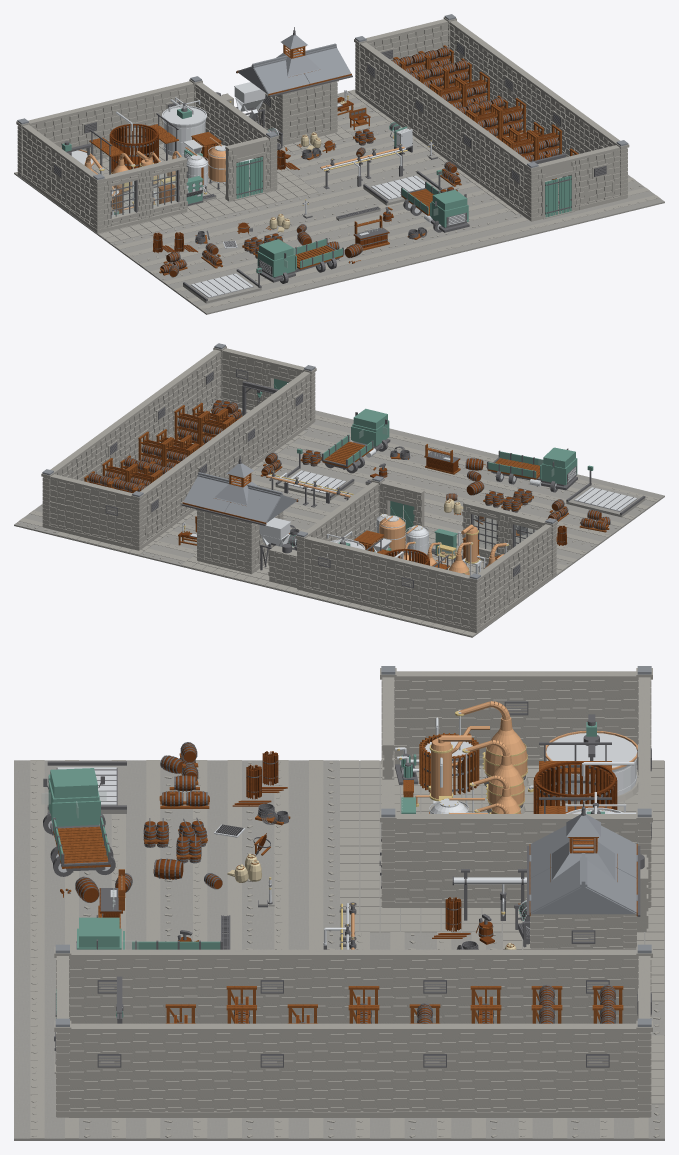
Rendered from DistilleryYard-PNG.glb.
The picture shows the model from 3 angles, top to bottom: view 1: azimuth 30°, elevation 25°; view 2: azimuth 150°, elevation 25°; view 3: azimuth 270°, elevation 25°; orthographic projection. The views are drawn at different scales.
Visible parts, largest first — view 1: 141-warehouse-wall-run/warehouse-wall-run-stone, 288-wall-section/wall-section-stone, 103-stillhouse-window-bay/stillhouse-window-bay-stone, 090-warehouse-wall-run/warehouse-wall-run-stone, 104-warehouse-door-pair/warehouse-door-pair-stone, 102-stillhouse-window-bay/stillhouse-window-bay-stone, 314-delivery-lorry/delivery-lorry-paint, 115-wash-back-wood/wash-back-wood-oak, 292-slate-roof-section/slate-roof-section-slate, 091-wall-section/wall-section-stone, 144-wall-section/wall-section-stone, 148-wall-section/wall-section-stone (+88 smaller); view 2: 090-warehouse-wall-run/warehouse-wall-run-stone, 091-wall-section/wall-section-stone, 137-wall-section/wall-section-stone, 092-warehouse-wall-run/warehouse-wall-run-stone, 136-warehouse-wall-run/warehouse-wall-run-stone, 089-wall-section/wall-section-stone, 285-wall-section/wall-section-stone, 141-warehouse-wall-run/warehouse-wall-run-stone, 314-delivery-lorry/delivery-lorry-paint, 307-delivery-lorry/delivery-lorry-paint, 292-slate-roof-section/slate-roof-section-slate, 096-wall-section/wall-section-stone (+53 smaller); view 3: 151-wall-section/wall-section-stone, 155-wall-section/wall-section-stone, 153-wall-section/wall-section-stone, 152-warehouse-wall-run/warehouse-wall-run-stone, 154-warehouse-wall-run/warehouse-wall-run-stone, 156-warehouse-wall-run/warehouse-wall-run-stone, 150-warehouse-wall-run/warehouse-wall-run-stone, 100-wall-section/wall-section-stone, 149-warehouse-wall-run/warehouse-wall-run-stone, 148-wall-section/wall-section-stone, 095-warehouse-wall-run/warehouse-wall-run-stone, 096-wall-section/wall-section-stone (+94 smaller).
Part boxes in pixels (x1,y1,x2,y2): 141-warehouse-wall-run/warehouse-wall-run-stone: [576, 145, 621, 209]; 288-wall-section/wall-section-stone: [289, 83, 330, 143]; 103-stillhouse-window-bay/stillhouse-window-bay-stone: [142, 156, 187, 221]; 090-warehouse-wall-run/warehouse-wall-run-stone: [66, 101, 111, 159]; 104-warehouse-door-pair/warehouse-door-pair-stone: [225, 136, 270, 201]; 102-stillhouse-window-bay/stillhouse-window-bay-stone: [104, 167, 146, 231]; 314-delivery-lorry/delivery-lorry-paint: [257, 239, 342, 277]; 115-wash-back-wood/wash-back-wood-oak: [109, 124, 158, 172]; 292-slate-roof-section/slate-roof-section-slate: [237, 53, 309, 94]; 091-wall-section/wall-section-stone: [108, 91, 153, 151]; 144-wall-section/wall-section-stone: [383, 59, 413, 127]; 148-wall-section/wall-section-stone: [479, 130, 509, 200]; 090-warehouse-wall-run/warehouse-wall-run-stone: [386, 556, 431, 621]; 091-wall-section/wall-section-stone: [345, 546, 390, 611]; 137-wall-section/wall-section-stone: [49, 474, 93, 538]; 092-warehouse-wall-run/warehouse-wall-run-stone: [303, 536, 348, 600]; 136-warehouse-wall-run/warehouse-wall-run-stone: [91, 484, 132, 549]; 089-wall-section/wall-section-stone: [428, 566, 470, 631]; 285-wall-section/wall-section-stone: [203, 511, 245, 572]; 141-warehouse-wall-run/warehouse-wall-run-stone: [221, 348, 266, 410]; 314-delivery-lorry/delivery-lorry-paint: [488, 447, 577, 485]; 307-delivery-lorry/delivery-lorry-paint: [323, 408, 389, 465]; 292-slate-roof-section/slate-roof-section-slate: [225, 482, 297, 522]; 096-wall-section/wall-section-stone: [522, 524, 552, 594]; 151-wall-section/wall-section-stone: [475, 1023, 557, 1117]; 155-wall-section/wall-section-stone: [149, 1023, 231, 1117]; 153-wall-section/wall-section-stone: [312, 1023, 394, 1117]; 152-warehouse-wall-run/warehouse-wall-run-stone: [393, 1023, 475, 1117]; 154-warehouse-wall-run/warehouse-wall-run-stone: [230, 1023, 312, 1117]; 156-warehouse-wall-run/warehouse-wall-run-stone: [69, 1023, 150, 1117]; 150-warehouse-wall-run/warehouse-wall-run-stone: [556, 1023, 638, 1117]; 100-wall-section/wall-section-stone: [394, 814, 475, 907]; 149-warehouse-wall-run/warehouse-wall-run-stone: [69, 949, 150, 1023]; 148-wall-section/wall-section-stone: [149, 949, 231, 1023]; 095-warehouse-wall-run/warehouse-wall-run-stone: [475, 671, 557, 765]; 096-wall-section/wall-section-stone: [394, 671, 475, 765].
Bounding box in the file's own units: 44.11 × 9.34 × 32.
12 materials, 4 textured.
